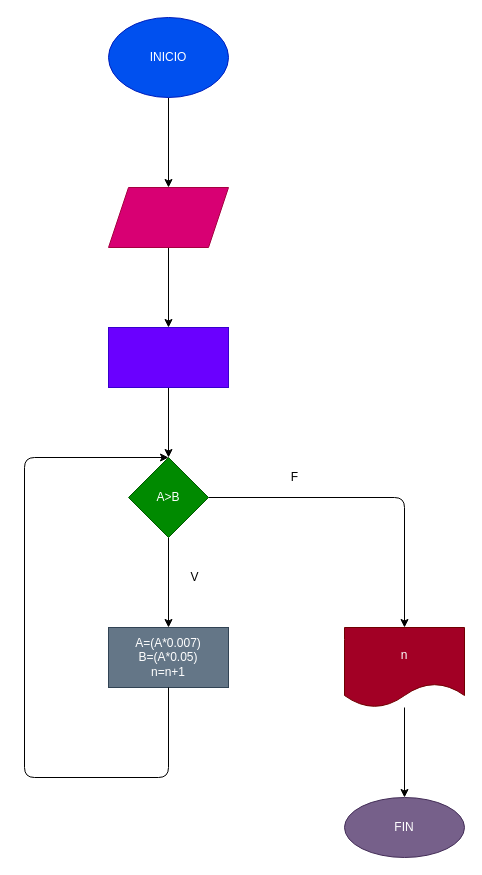
Image size: 482x875. Some labels were removed from this diagram. The box of each missing label's shape, as (x1, y1, x2, y2) in pixels:
A=3.5x10 6 B=5*10 6 y=1980: (108, 186, 228, 248)
n=0: (108, 326, 228, 388)
